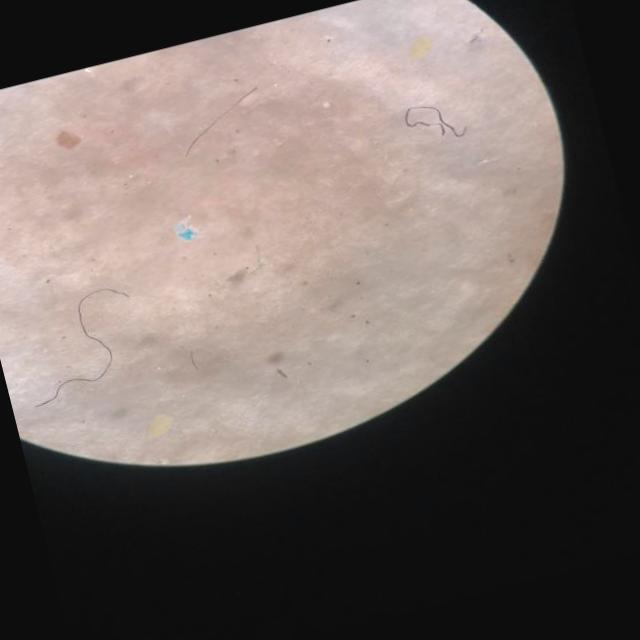fiber: (39, 287, 128, 404), (186, 86, 259, 155), (404, 106, 466, 137)
film: (177, 215, 199, 241)
fragment: (56, 131, 80, 148), (151, 416, 172, 435), (411, 38, 432, 57)
pellet: (323, 101, 331, 108)
